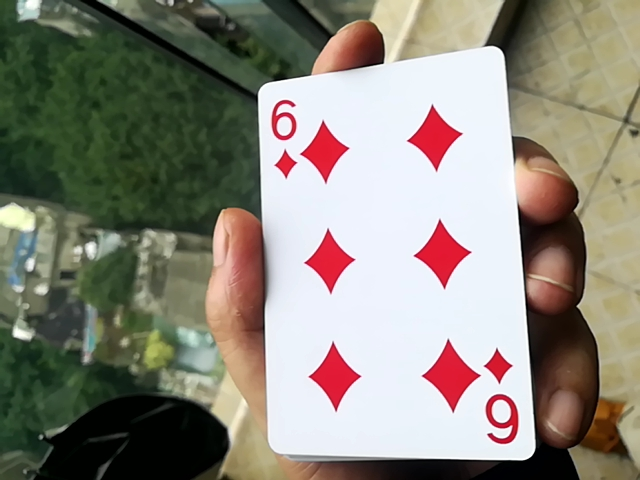fk 6: (239, 46, 545, 467)
